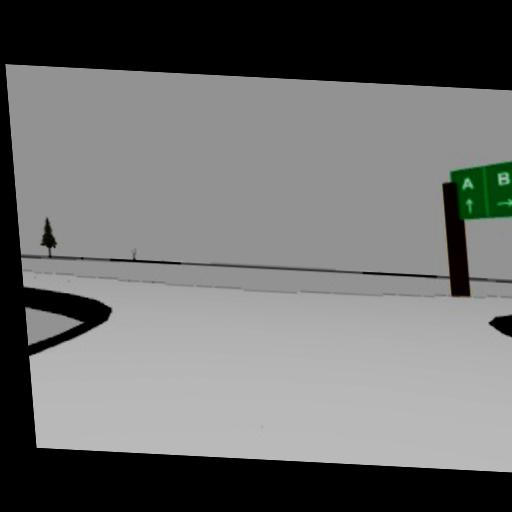A: (461, 176, 475, 191)
B: (495, 170, 512, 187)
Right: (495, 198, 512, 208)
Straight: (464, 198, 476, 213)
